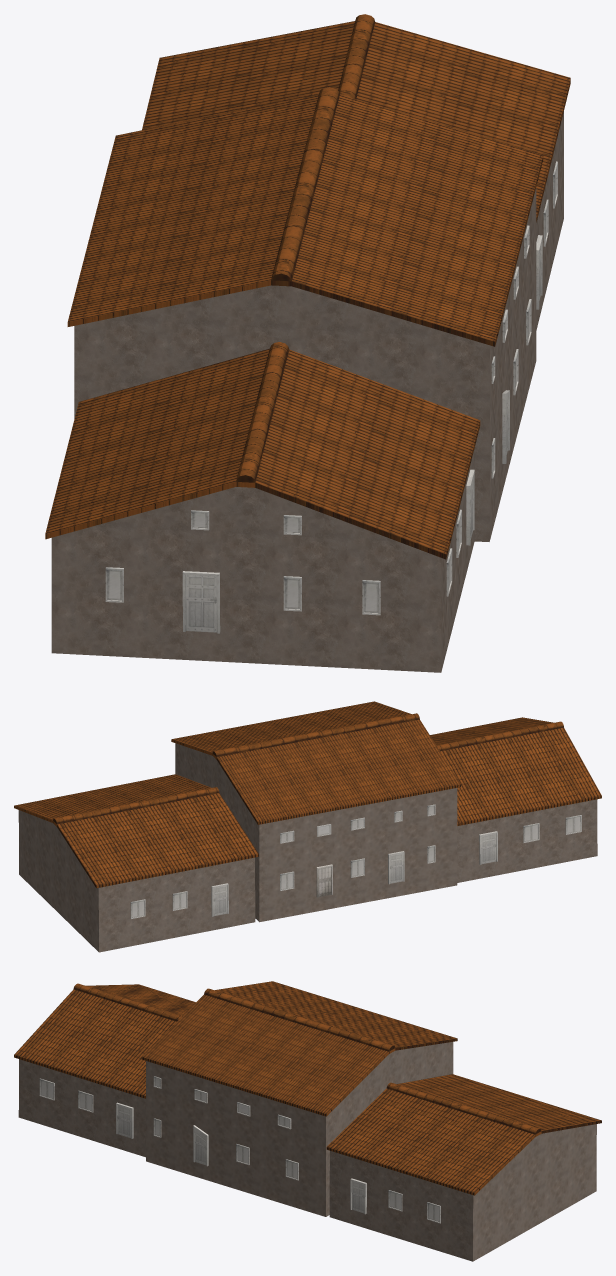
Rendered from Casa_8.fbx.
3 renders of one model, top to bottom at view 1: azimuth 30°, elevation 25°; view 2: azimuth 150°, elevation 25°; view 3: azimuth 270°, elevation 25°, orthographic. The views are drawn at different scales.
Visible parts, largest first — view 1: Casa_8; view 2: Casa_8; view 3: Casa_8.
Boxes of the visible parts, x1,y1,x2,y2 form: Casa_8: (45, 14, 570, 672); Casa_8: (14, 701, 601, 952); Casa_8: (14, 981, 601, 1261).
Bounding box in the file's own units: 30.1 × 8.96 × 34.9.
